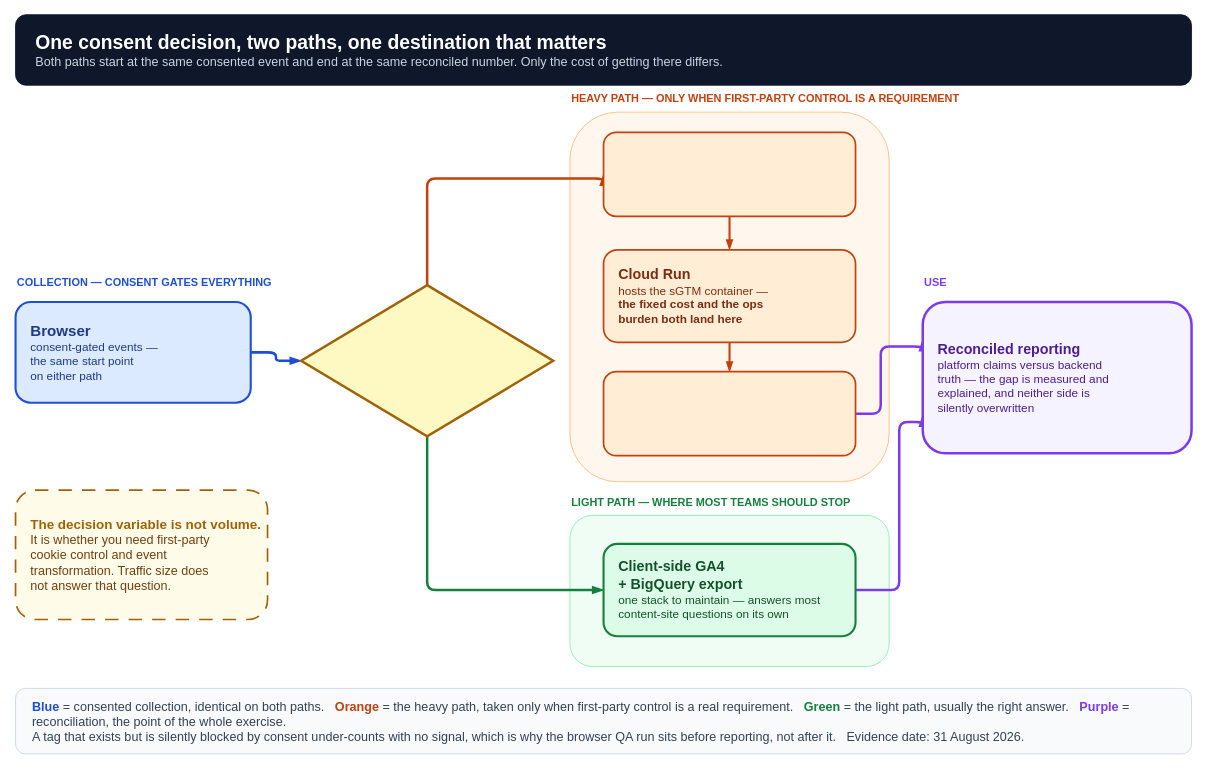
This 1207x769 diagram has some shape labels left out. The shapes that lost their labels are listed below. From the top down, each one's centre as x and y in pixels, then its label:
At (x=729, y=174): "sGTM endpoint first-party /metrics path — transforms, filters and routes".
At (x=426, y=360): "Do you need first-party cookie control or event transformation?".
At (x=729, y=413): "BigQuery raw queryable event store — joins to backend and CRM truth".
